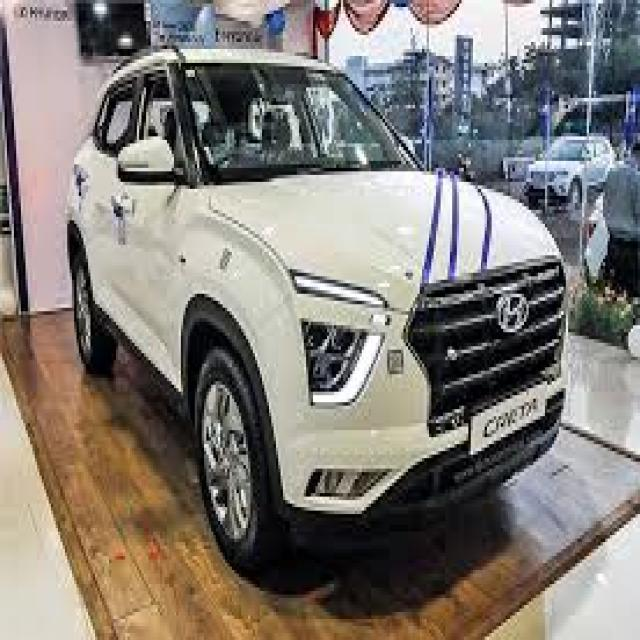SUV: (76, 42, 578, 573)
